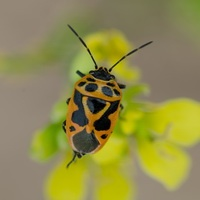insect: (63, 24, 151, 167)
